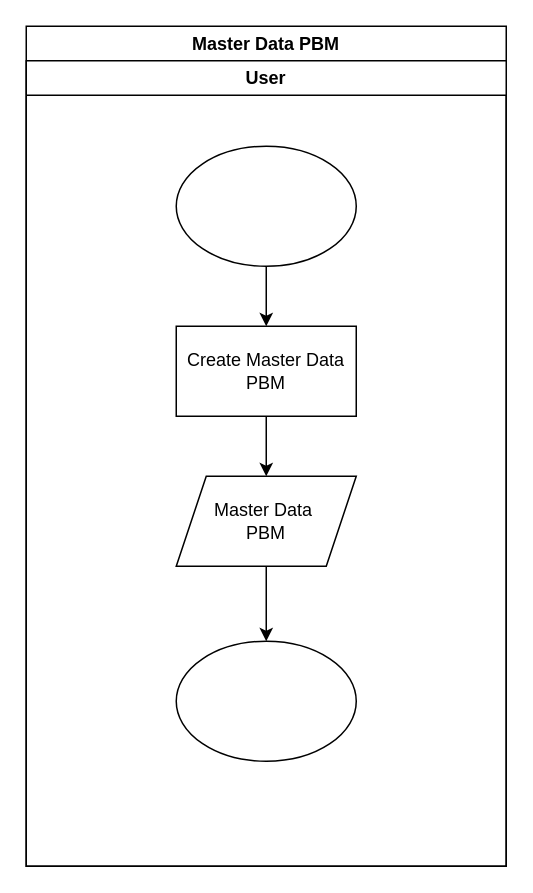
This 533x893 diagram has some shape labels left out. The shapes that lost their labels are listed below. From the top down, each one's box as (x1, y1, x2, y2) in pixels, then its label:
(175, 145, 356, 266): Start
(175, 640, 356, 761): End
